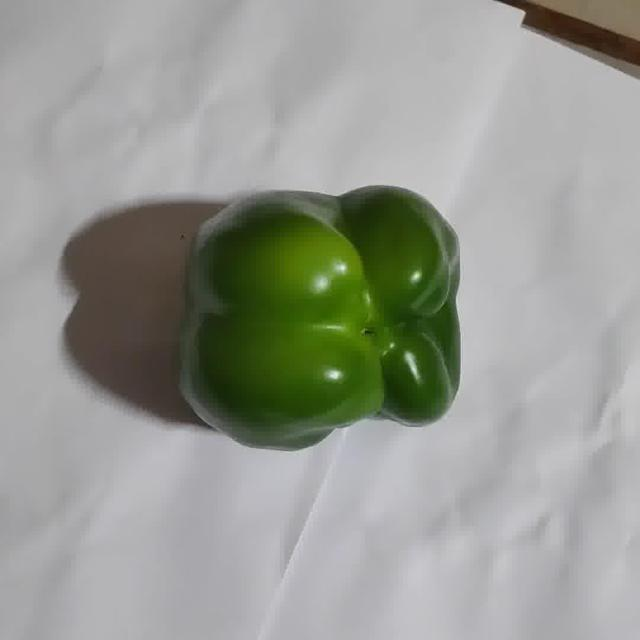Bell Pepper: (180, 186, 459, 450)
